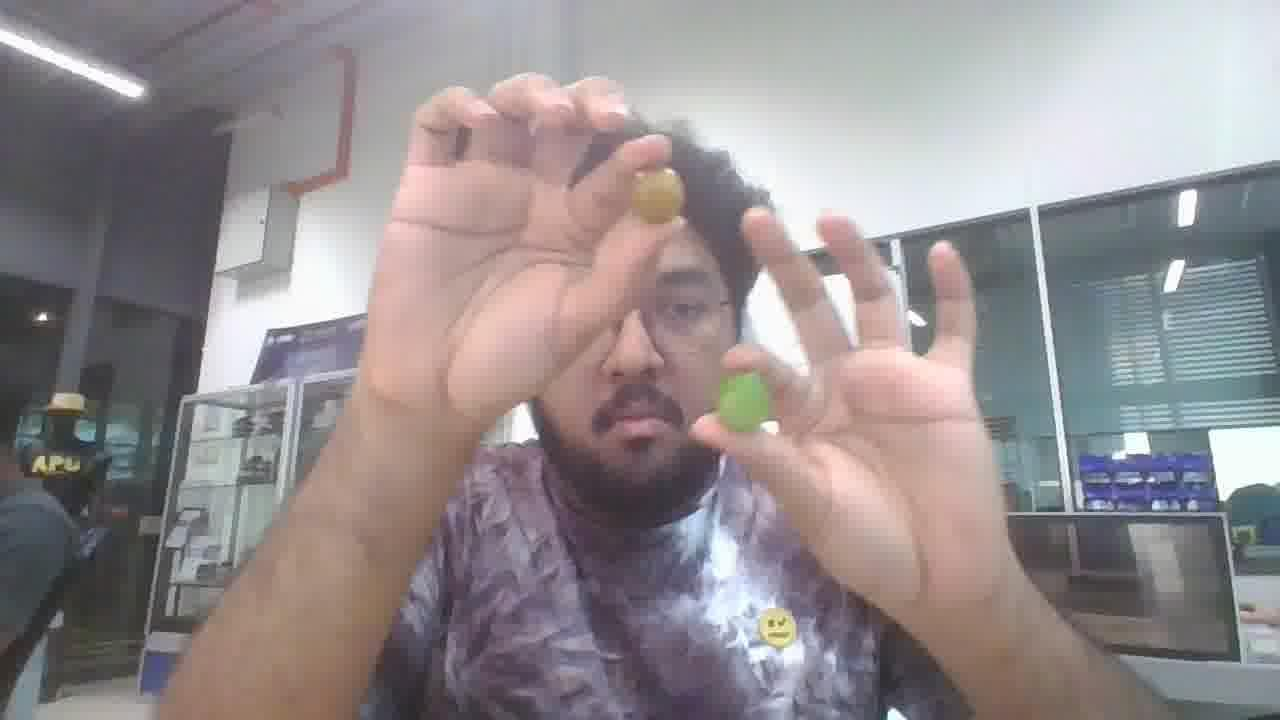green_cherry_tomato: (716, 372, 771, 432)
yellow_cherry_tomato: (631, 168, 684, 223)
